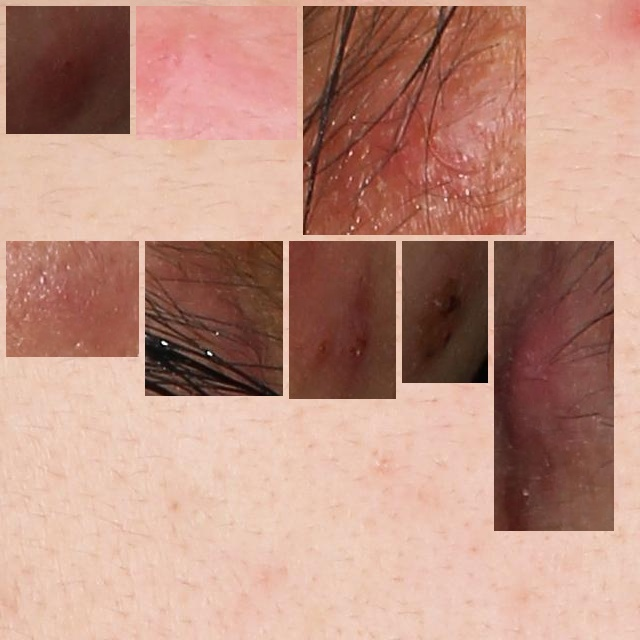nodule: (311, 14, 518, 227), (496, 249, 606, 523), (144, 14, 289, 132), (153, 249, 275, 388), (297, 249, 388, 391), (14, 14, 122, 126), (14, 249, 131, 349), (410, 249, 480, 375)
